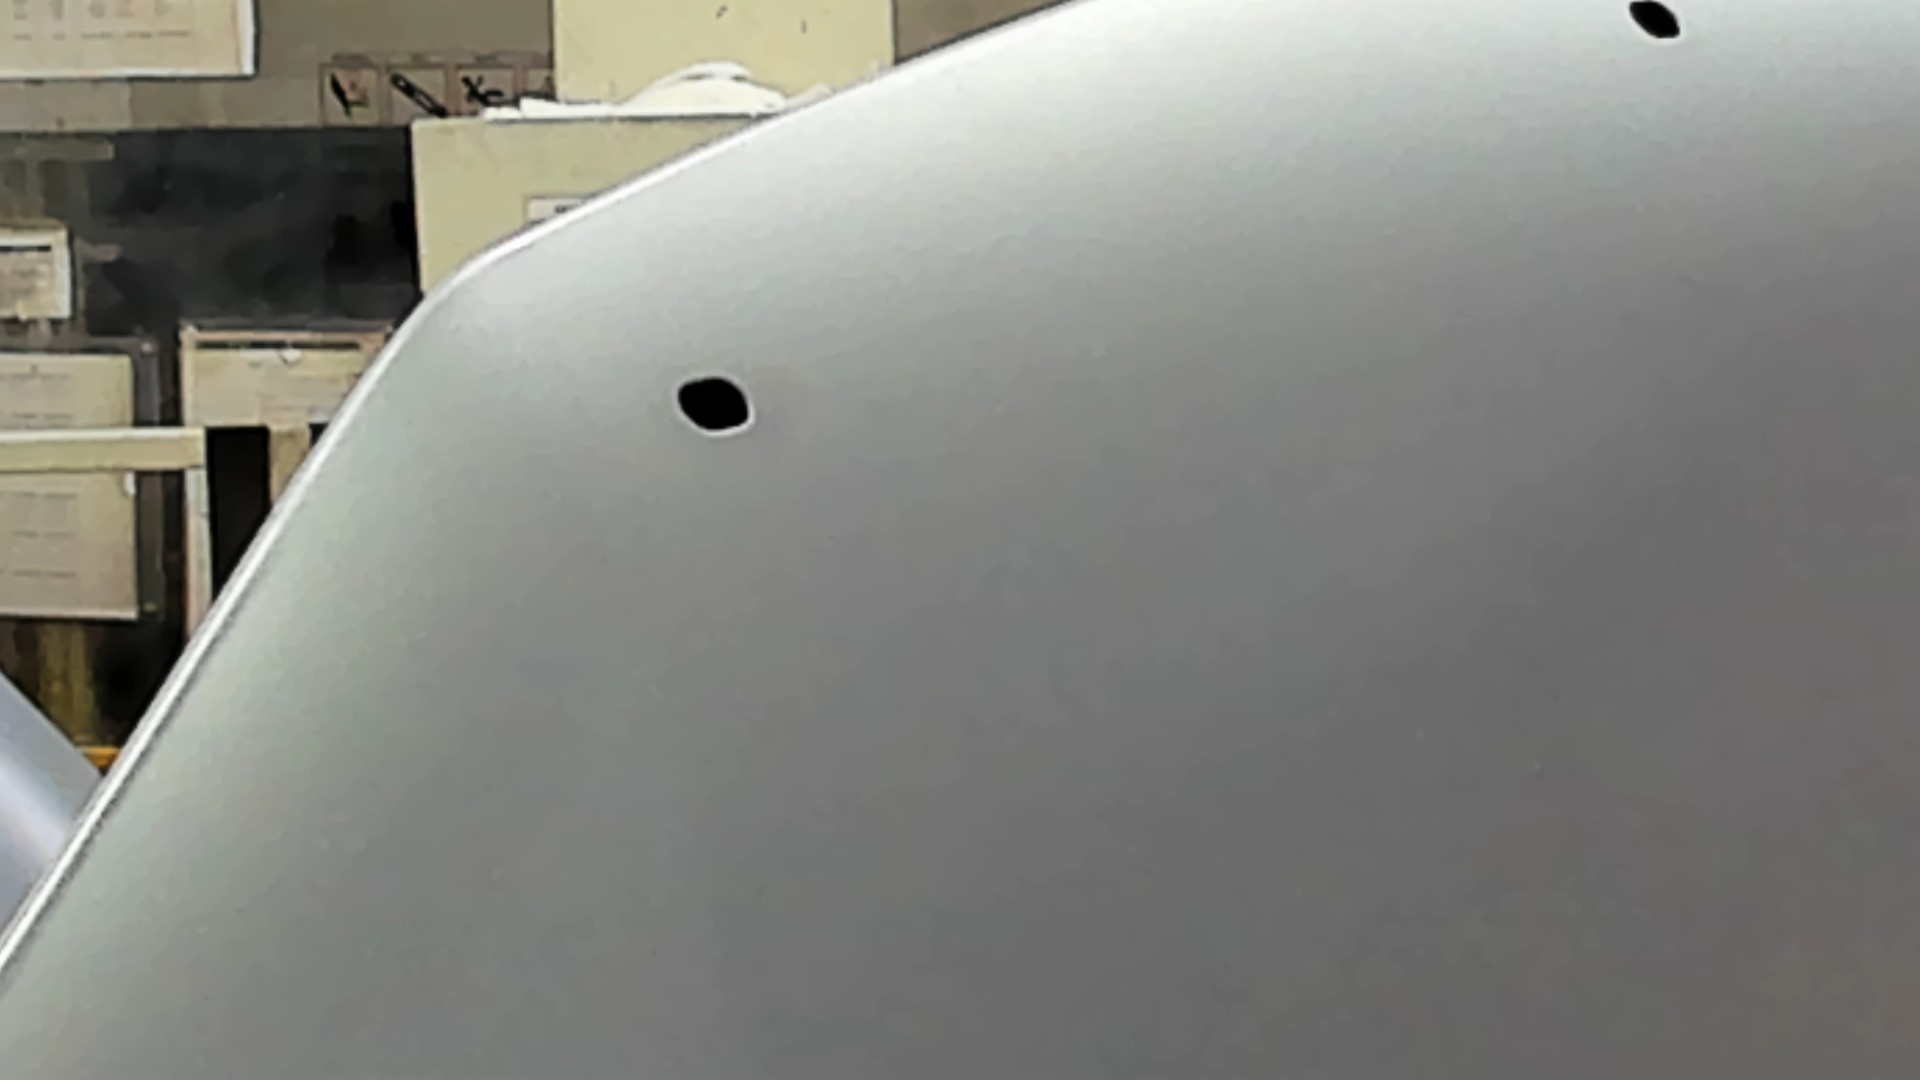amorfo: (673, 375, 760, 440), (1621, 1, 1688, 47)
